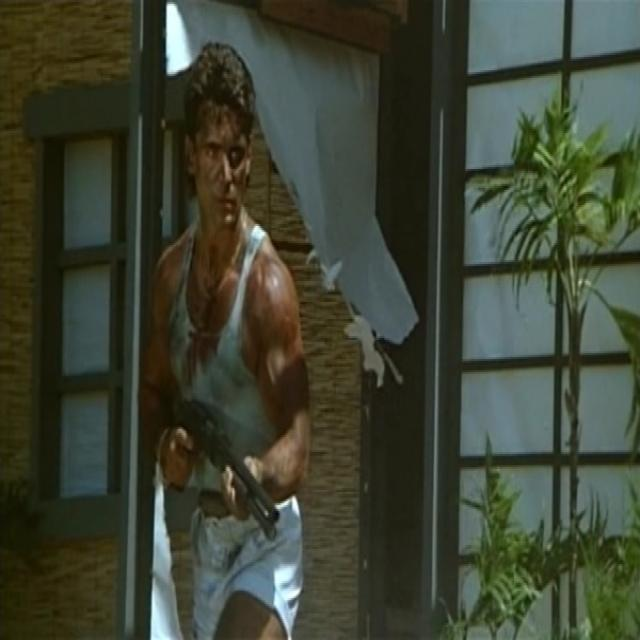rifle: (178, 393, 283, 542)
